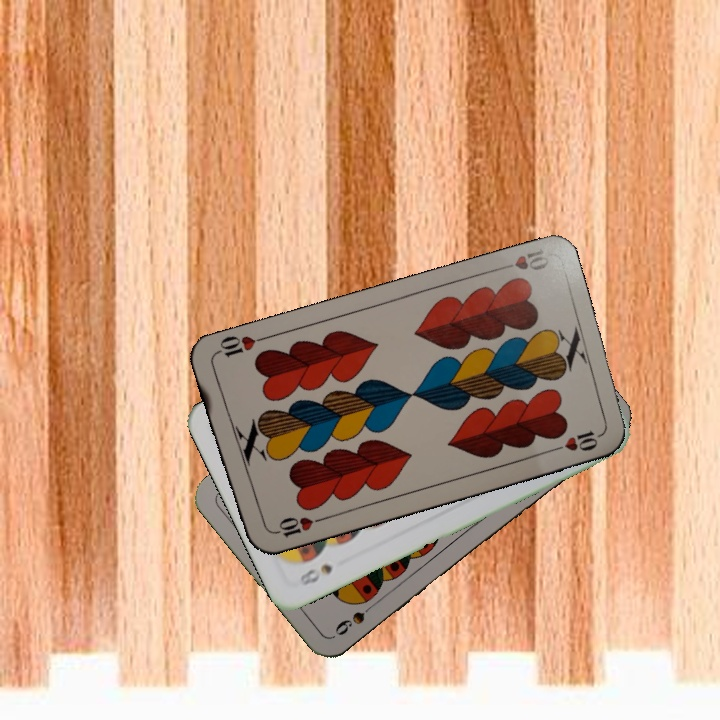H10: (492, 244, 551, 274), (267, 513, 325, 541)
S8: (296, 560, 335, 589)
S9: (331, 596, 381, 638)
